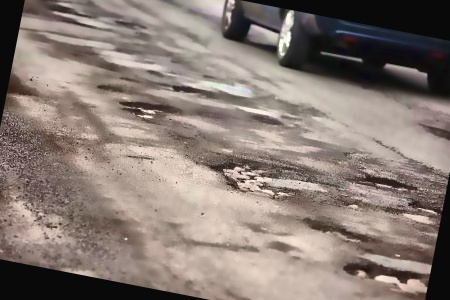pothole: (205, 155, 298, 206), (338, 250, 431, 297), (117, 95, 182, 129), (359, 170, 416, 195), (398, 198, 443, 228), (418, 121, 450, 144), (170, 83, 205, 97)
